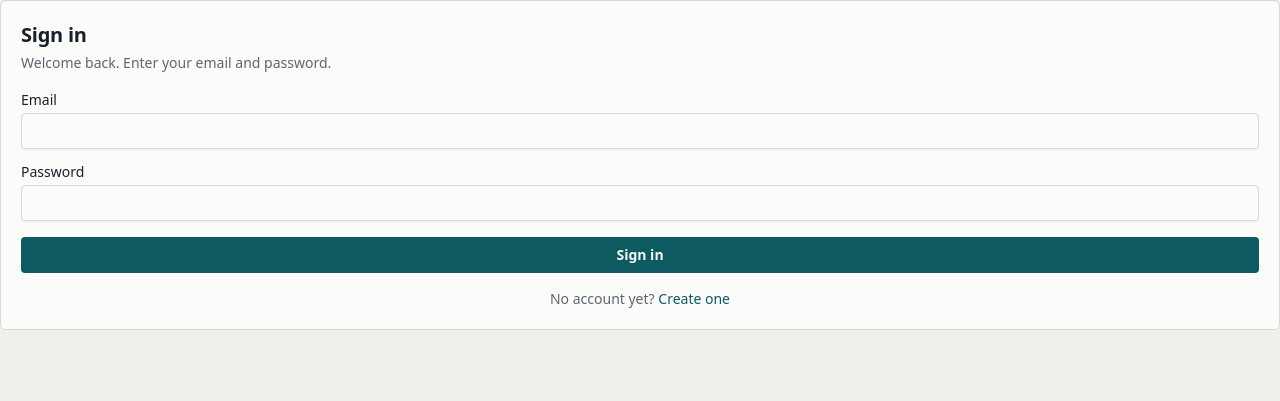
Test: LoginPage › shows the server message for wrong credentials
Type "me@example.com" into the field labelled "Email" at (640, 131), box x1=21 y1=113 x2=1259 y2=149
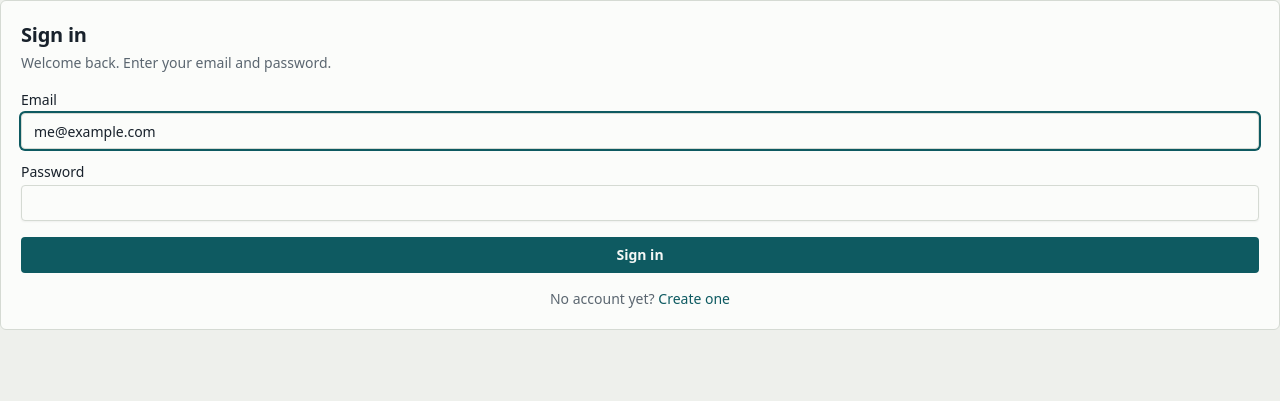
Type "wrong" into the password field labelled "Password" at (640, 203), box x1=21 y1=185 x2=1259 y2=221
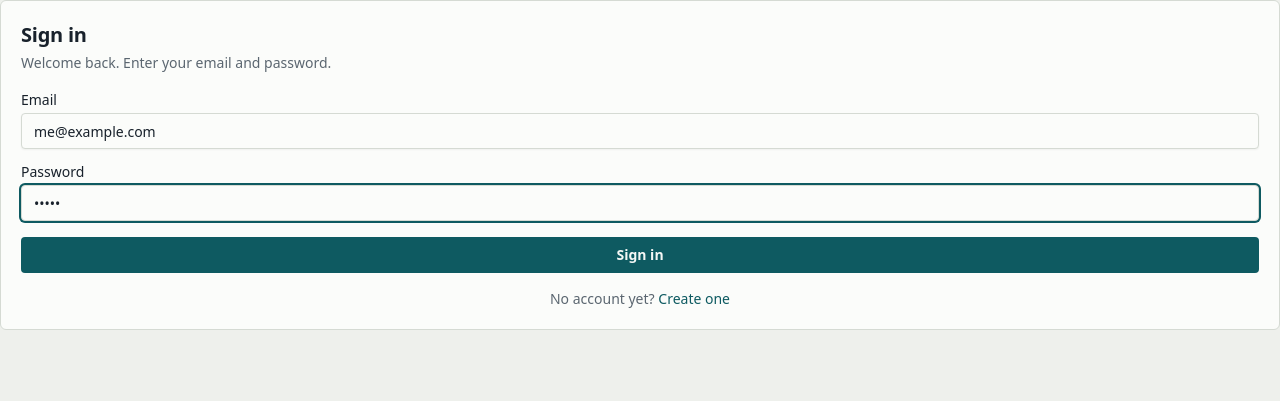
Click the button "Sign in" at (640, 255), box x1=21 y1=237 x2=1259 y2=273
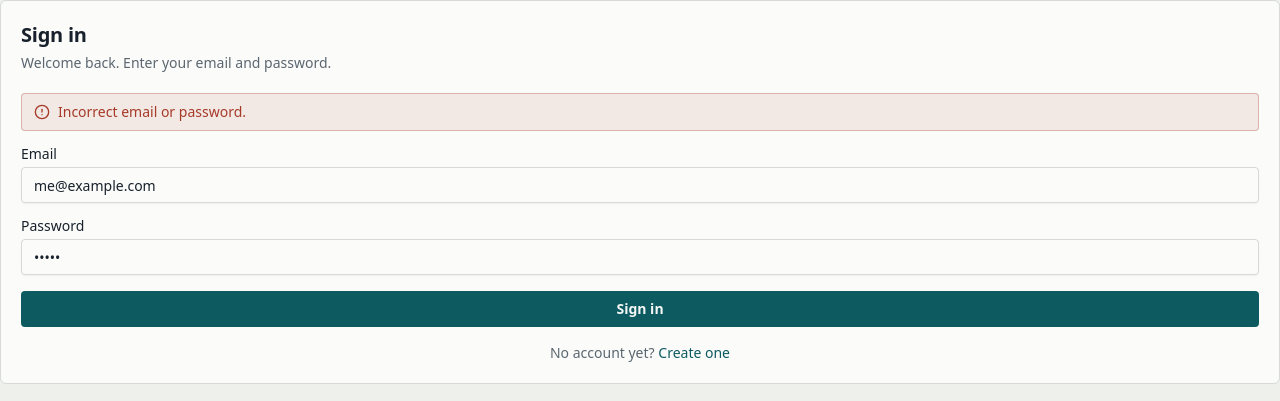
Check: the message reads "Incorrect email or password.", box x1=58 y1=102 x2=246 y2=121
